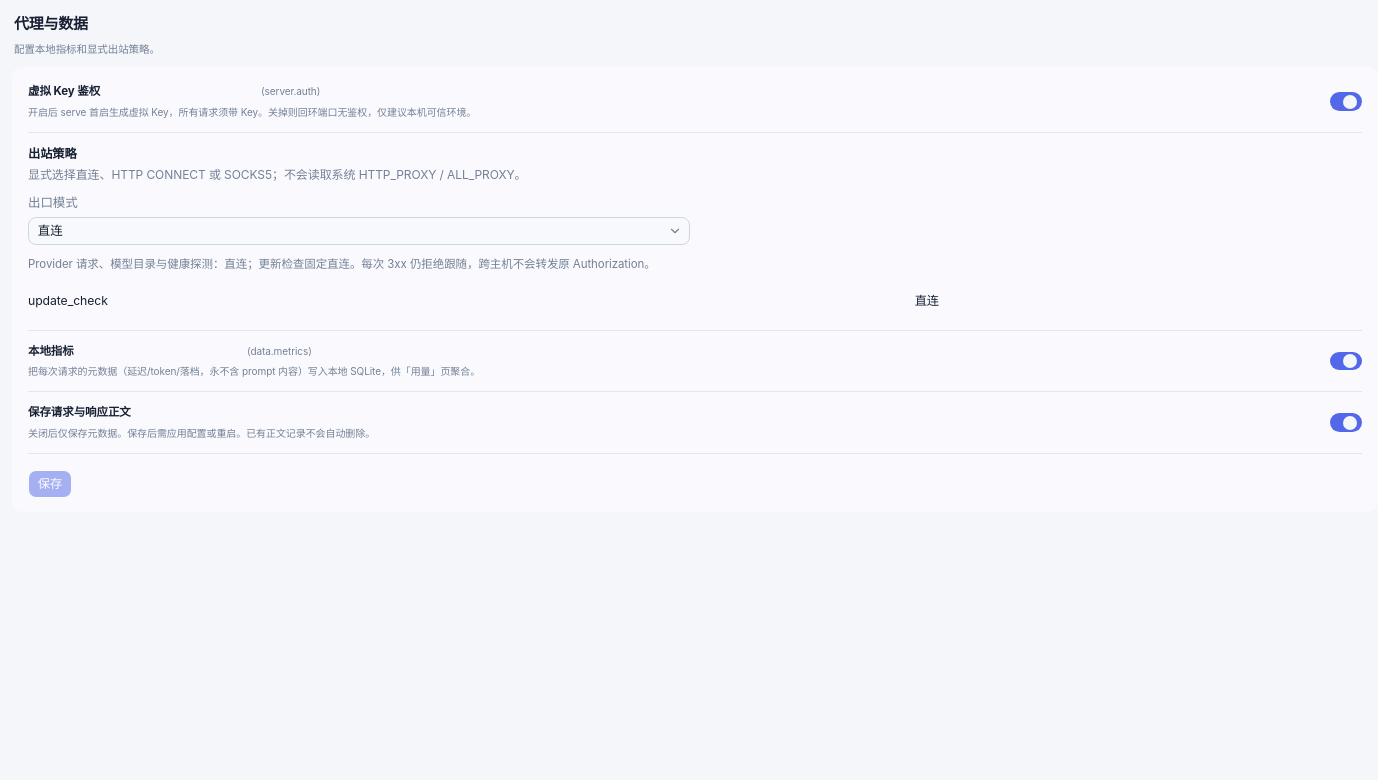
Test: settings and update actions › shows settings save failures
Click the switch named "本地指标" in the row of "(data.metrics)": (1346, 361) [1330,352,1362,370]
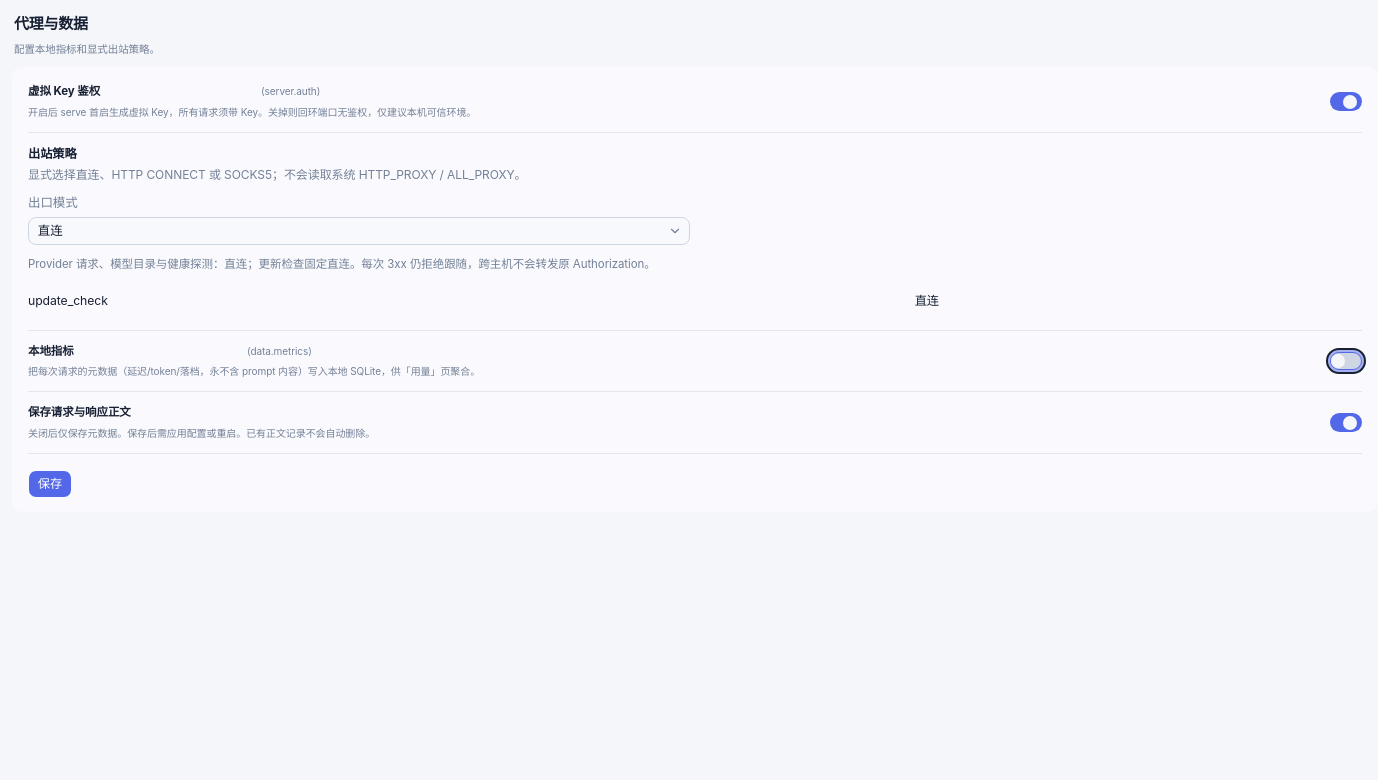
Click the button "保存": (50, 484) [28,470,72,498]
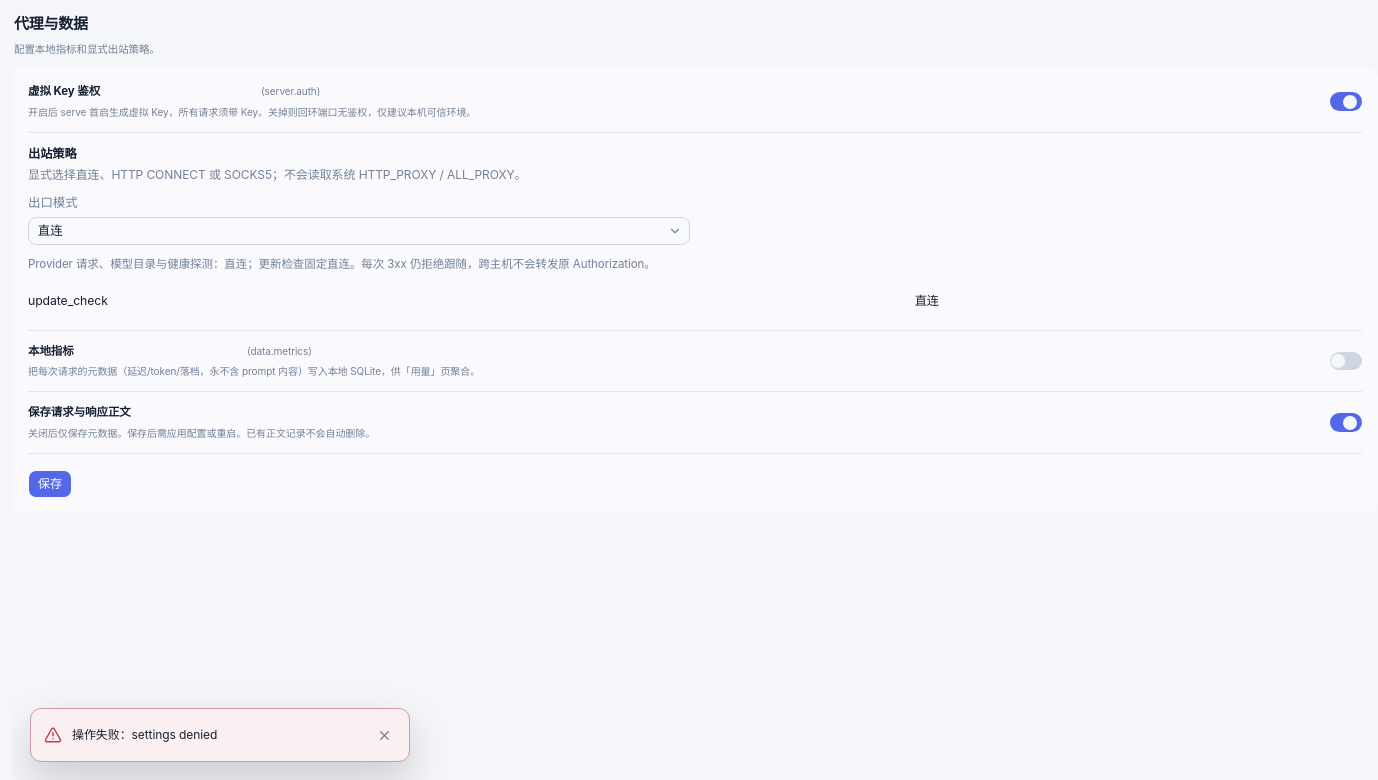
Check: the text "操作失败：settings denied" is shown, box [72,727,217,742]
